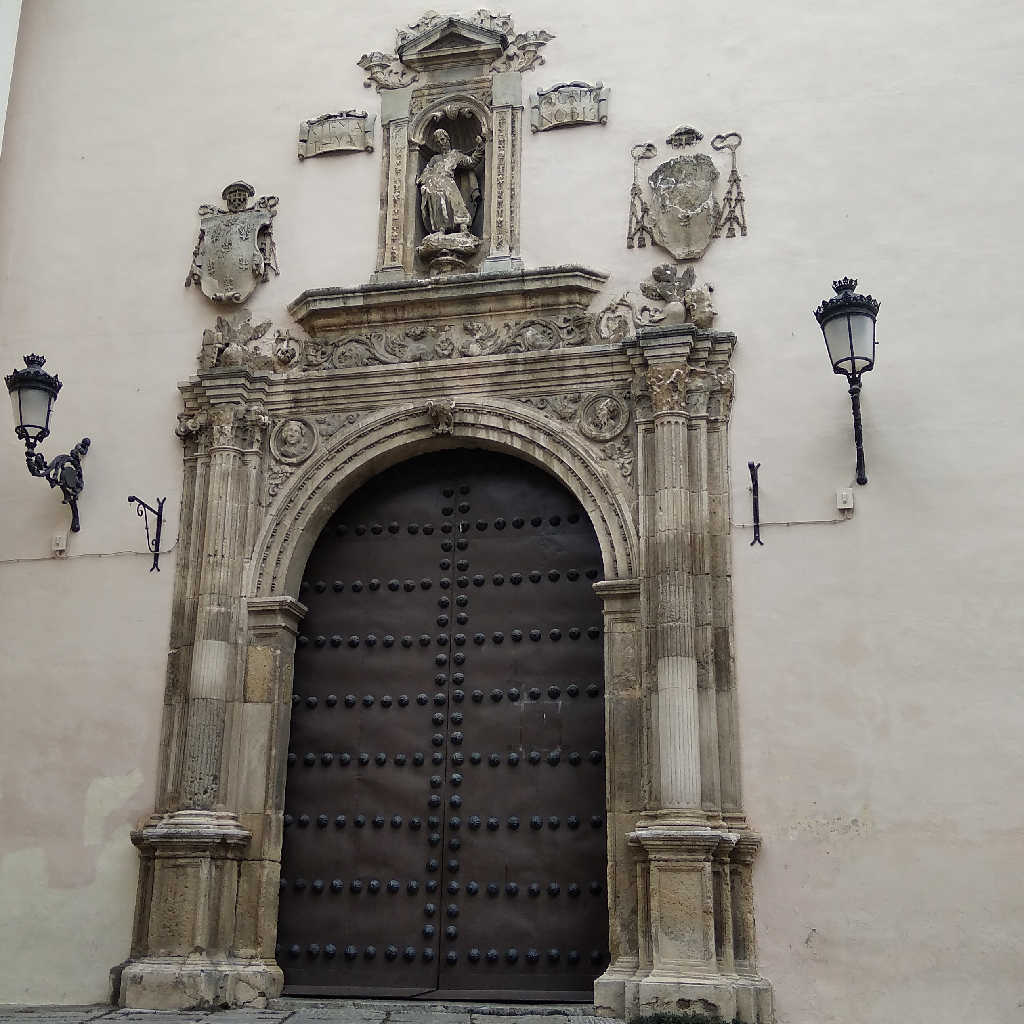arco-medio-punto: (269, 427, 623, 634)
fronton: (397, 19, 511, 65)
